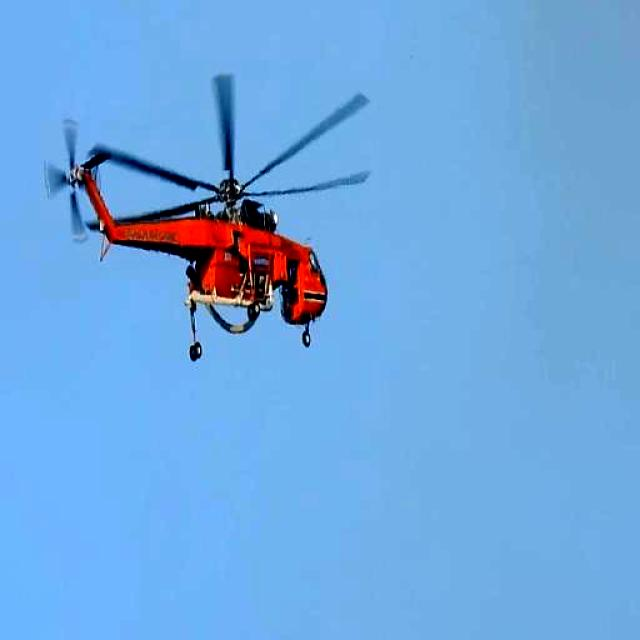drone: (40, 68, 375, 364)
